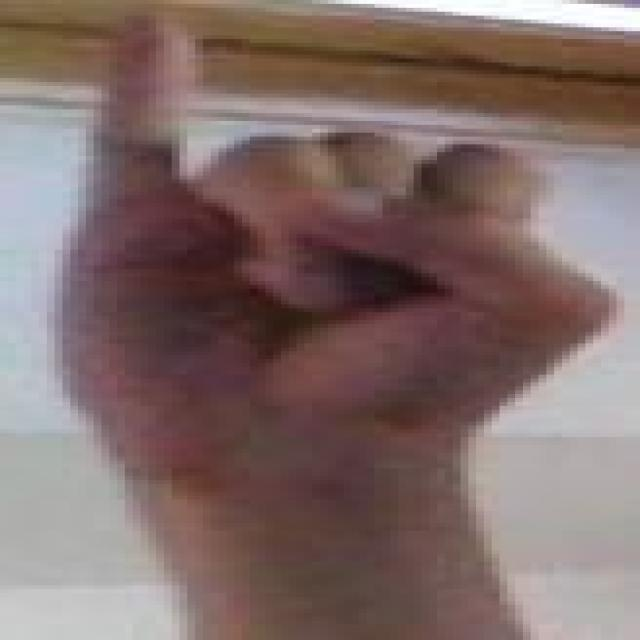I: (0, 0, 640, 554)
